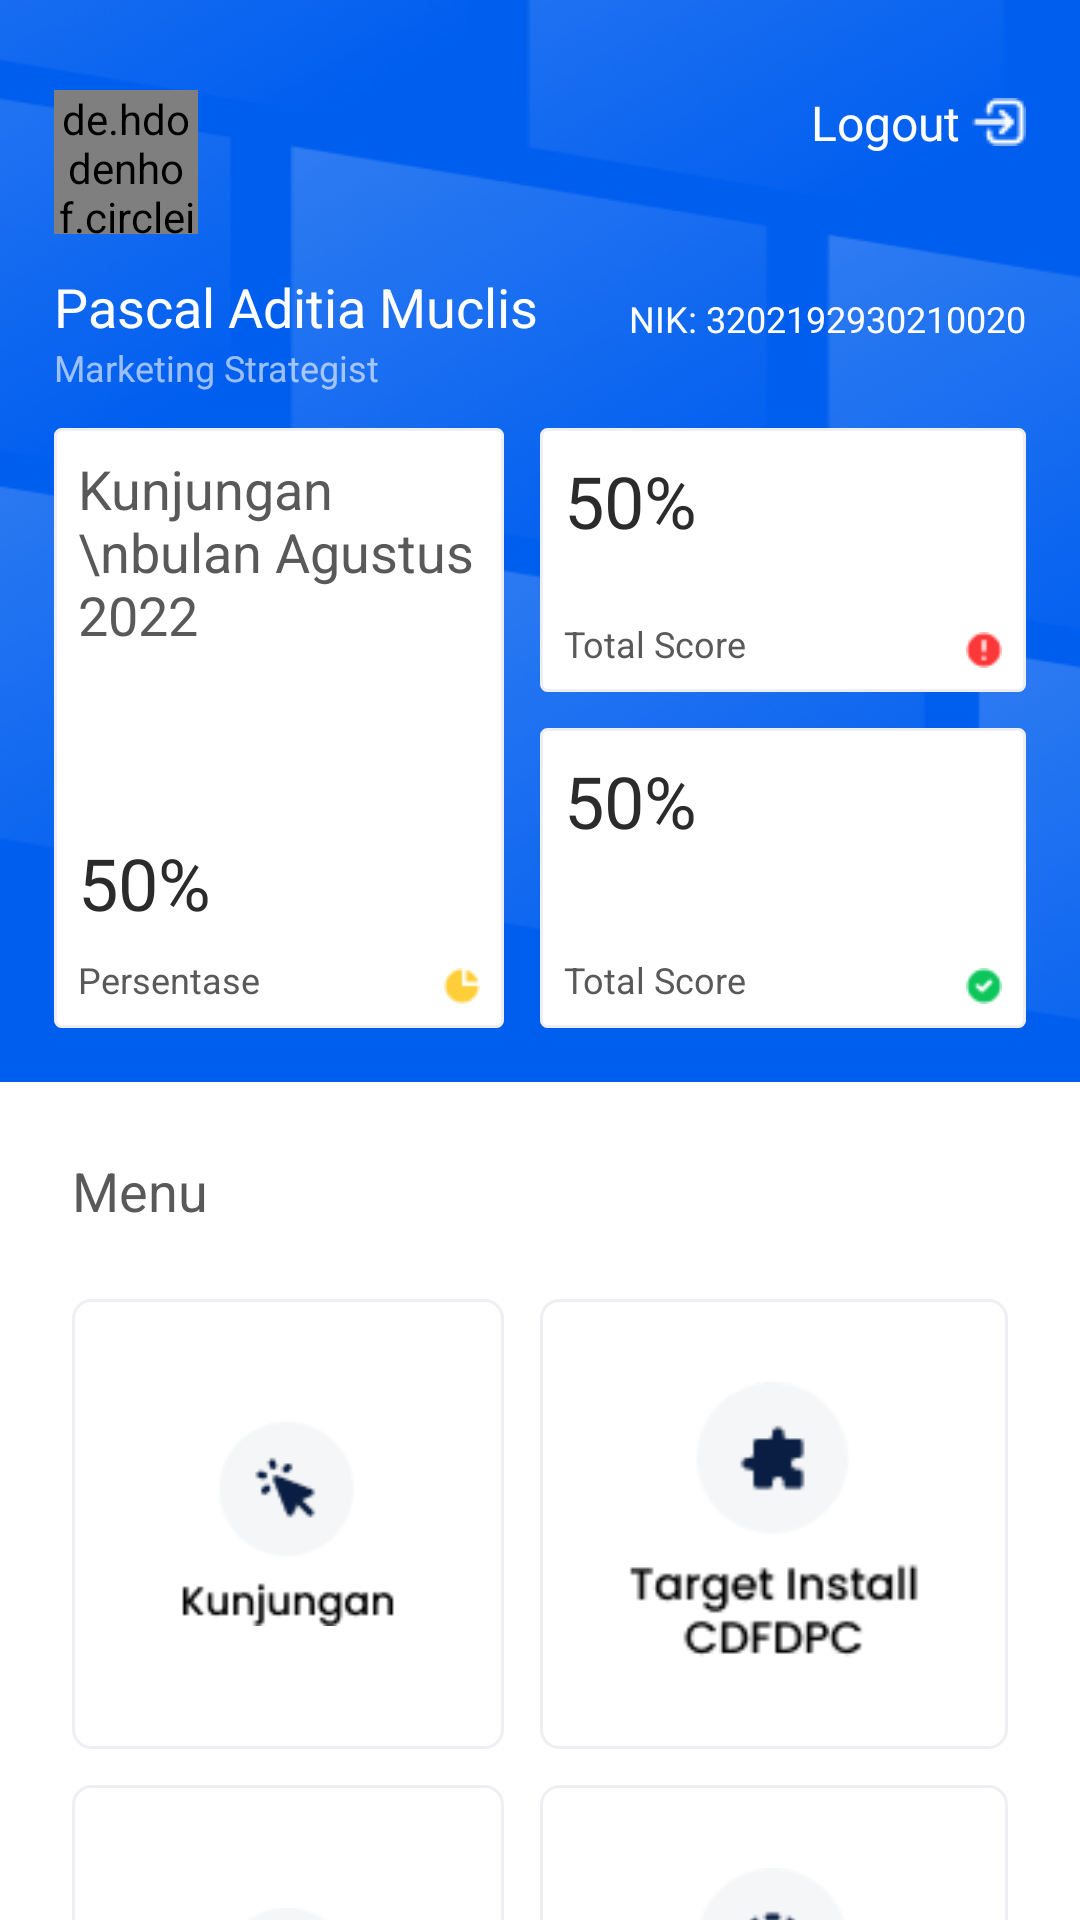

Point at icon controls on the screen. Image size 1080 x 1920, points as (x=x, y=y).
cheklist: (x=984, y=986)
percent: (x=462, y=986)
warning: (x=984, y=650)
